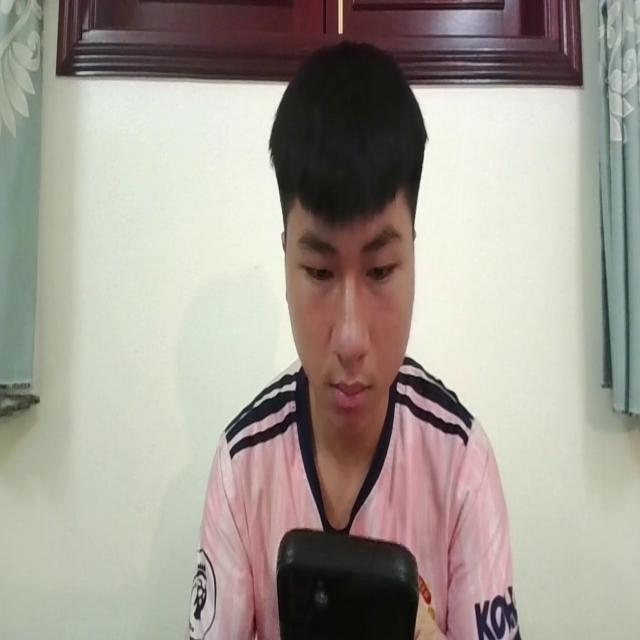phone: (274, 531, 418, 640)
student: (189, 53, 524, 640)
